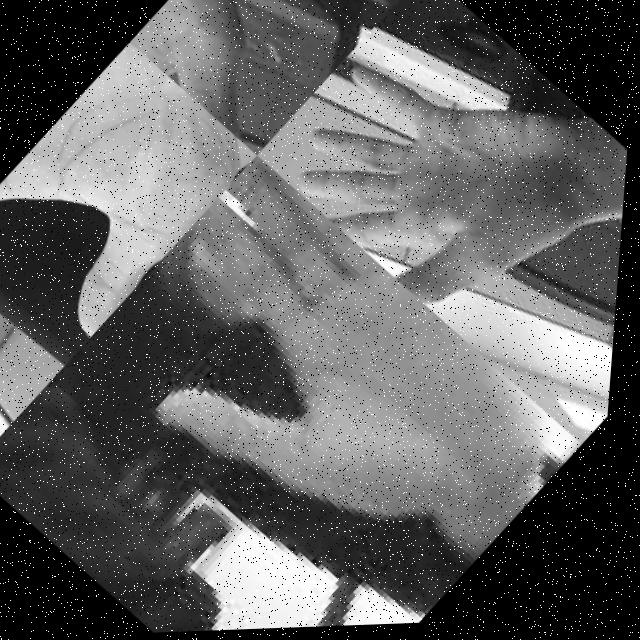hand: (62, 149, 570, 629), (260, 0, 640, 351), (0, 39, 266, 382), (123, 0, 412, 161)
